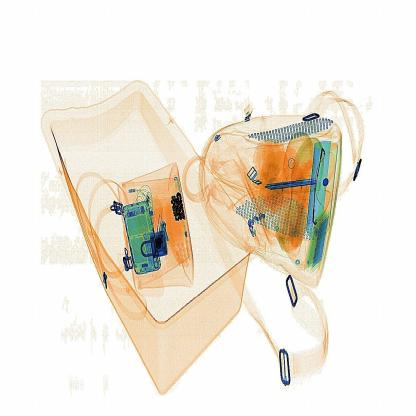pliers: (258, 166, 336, 199)
